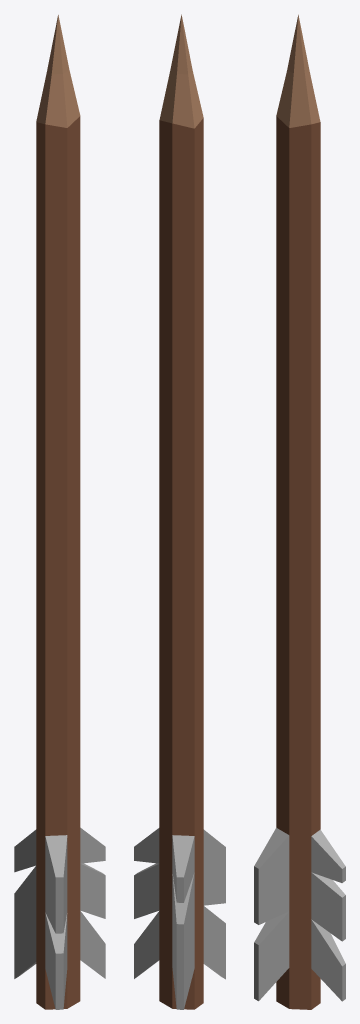
File: Wooden Arrow.fbx
The picture shows the model from 3 angles, left to right: view 1: azimuth 30°, elevation 25°; view 2: azimuth 150°, elevation 25°; view 3: azimuth 330°, elevation 25°; orthographic projection.
Visible parts, largest first — view 1: Wooden Arrow; view 2: Wooden Arrow; view 3: Wooden Arrow.
Boxes of the visible parts, x1,y1,x2,y2 form: Wooden Arrow: (14,15,105,1009); Wooden Arrow: (134,14,225,1009); Wooden Arrow: (254,14,345,1009).
Bounding box in the file's own units: 4.18 × 57.19 × 4.7.
